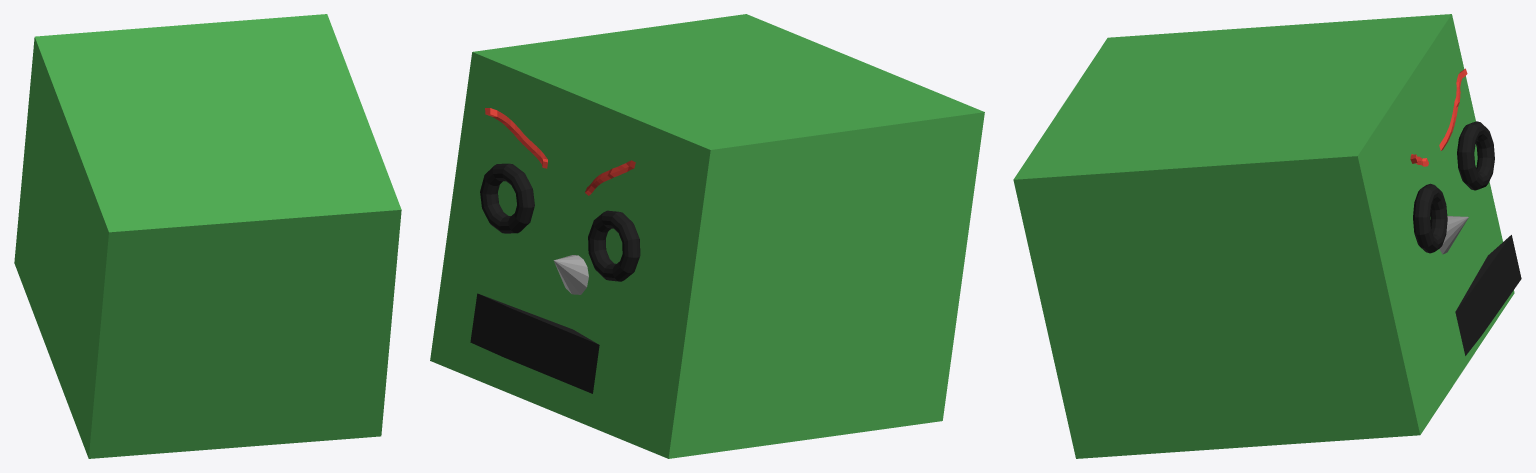
The model's file is angrydude.fbx.
3 views of the same model, side by side, from view 1: azimuth 30°, elevation 25°; view 2: azimuth 150°, elevation 25°; view 3: azimuth 270°, elevation 25° (orthographic). The views are drawn at different scales.
Parts seen in each view (by area): view 1: mesh_630014034; view 2: mesh_630014034, group_1530027372, mesh_383868516, mesh_565187780, mesh_1647796186, group_2042768378; view 3: mesh_630014034, group_1530027372, mesh_565187780, mesh_383868516, mesh_1647796186.
Boxes of the visible parts, left/top/right/bottom form: mesh_630014034: left=14, top=14, right=401, bottom=458; mesh_630014034: left=430, top=14, right=984, bottom=458; group_1530027372: left=470, top=293, right=599, bottom=393; mesh_383868516: left=480, top=163, right=534, bottom=233; mesh_565187780: left=588, top=210, right=640, bottom=281; mesh_1647796186: left=553, top=255, right=588, bottom=294; group_2042768378: left=485, top=108, right=547, bottom=168; mesh_630014034: left=1013, top=14, right=1514, bottom=458; group_1530027372: left=1455, top=235, right=1521, bottom=355; mesh_565187780: left=1457, top=121, right=1494, bottom=190; mesh_383868516: left=1413, top=183, right=1447, bottom=253; mesh_1647796186: left=1439, top=216, right=1468, bottom=254.
Size of the model in its own units: 49.59 by 44.33 by 58.28.
